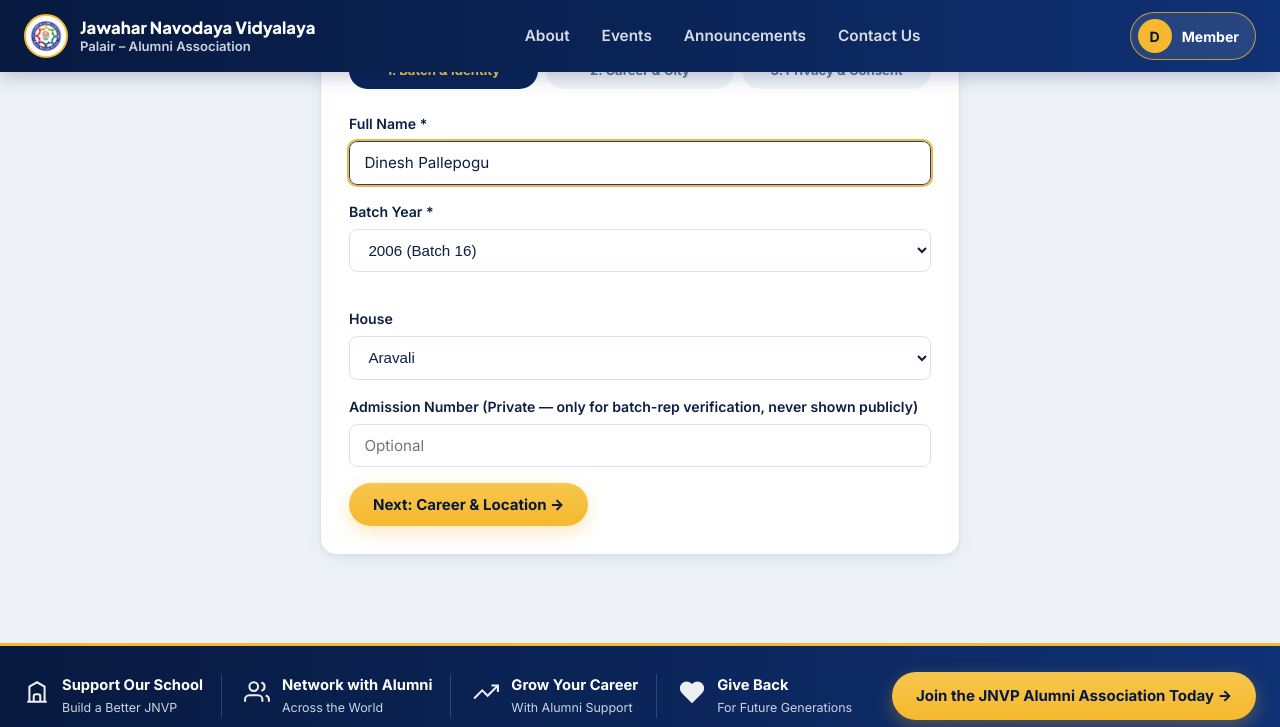
it: JNVP Portal Flows (Auth, Onboarding, Directory, Approvals, Events, About, Privacy) › enforces multi-step onboarding with default-OFF visibility and mandatory DPDP consent
The image size is (1280, 727).
Earlier steps of the test are not shown.
(page scrolled)
Click the button "Next: Career & Location →": point(469, 505) [349,483,588,526]
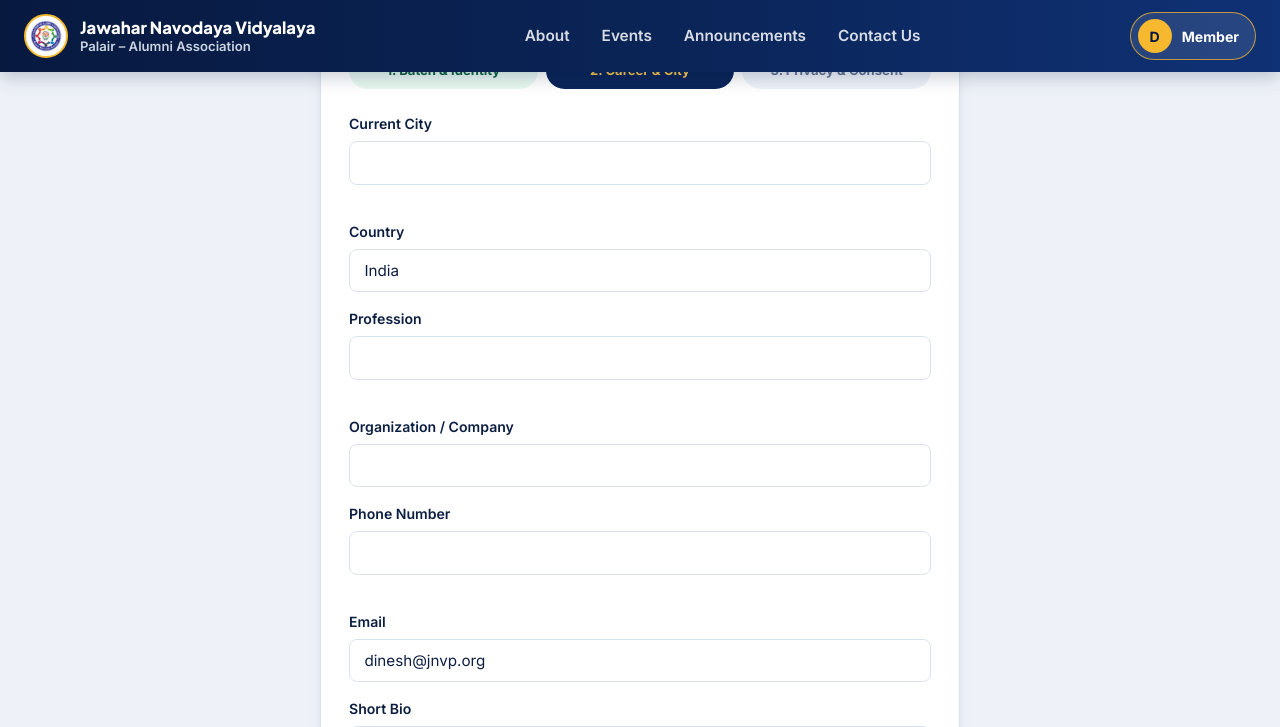
In the field labelled "Current City": point(640, 163) [349,141,931,185], type "Hyderabad"
(page scrolled)
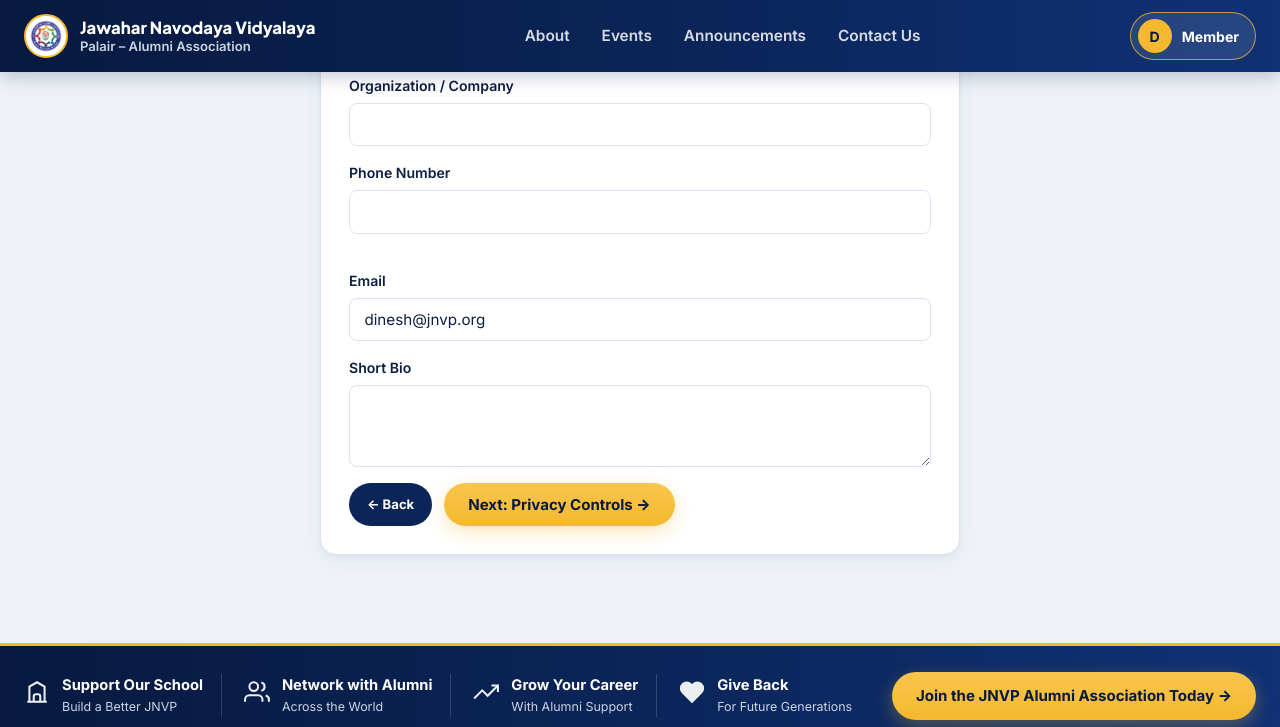
Click the button "Next: Privacy Controls →": point(559, 504) [444,482,675,526]
(page scrolled)
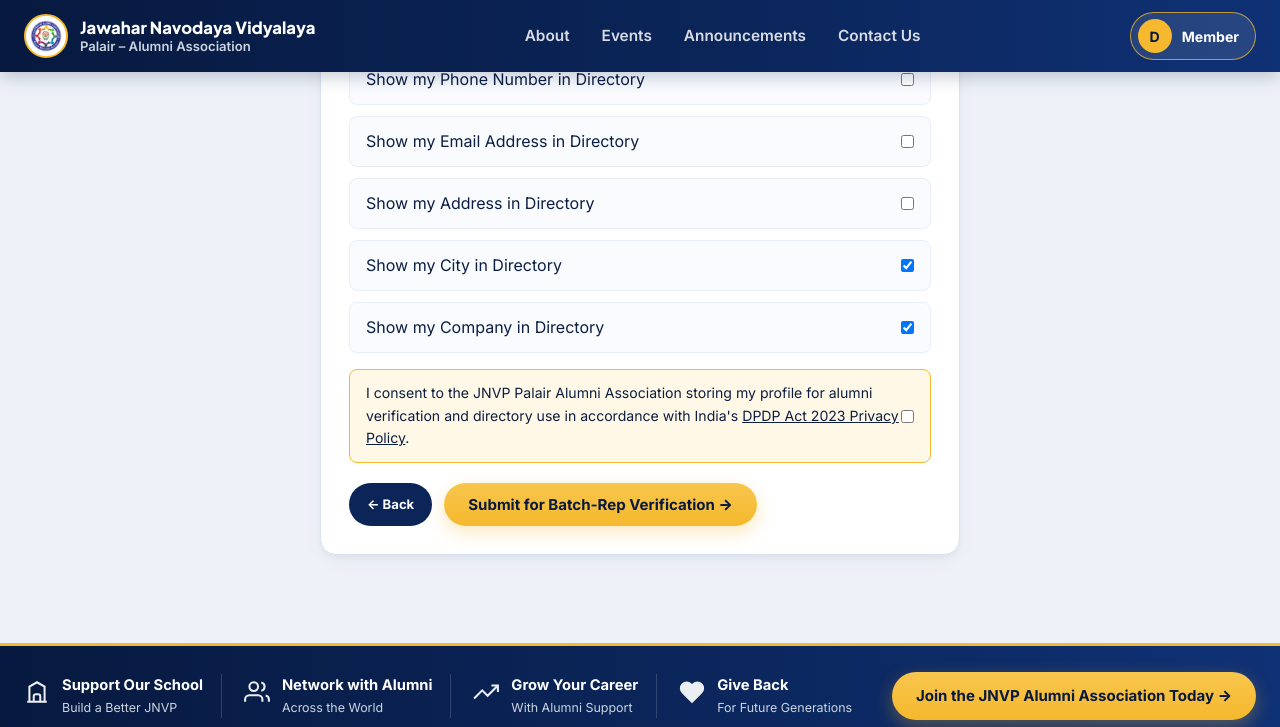
Check: the checkbox labelled "Show my Phone Number in Directory" is not checked, box [901,73,914,86]
Check: the checkbox labelled "Show my Email Address in Directory" is not checked, box [901,135,914,148]
# Submitting without consent shows validation error
Click the button "Submit for Batch-Rep Verification →": point(600, 504) [444,483,757,526]
(page scrolled)
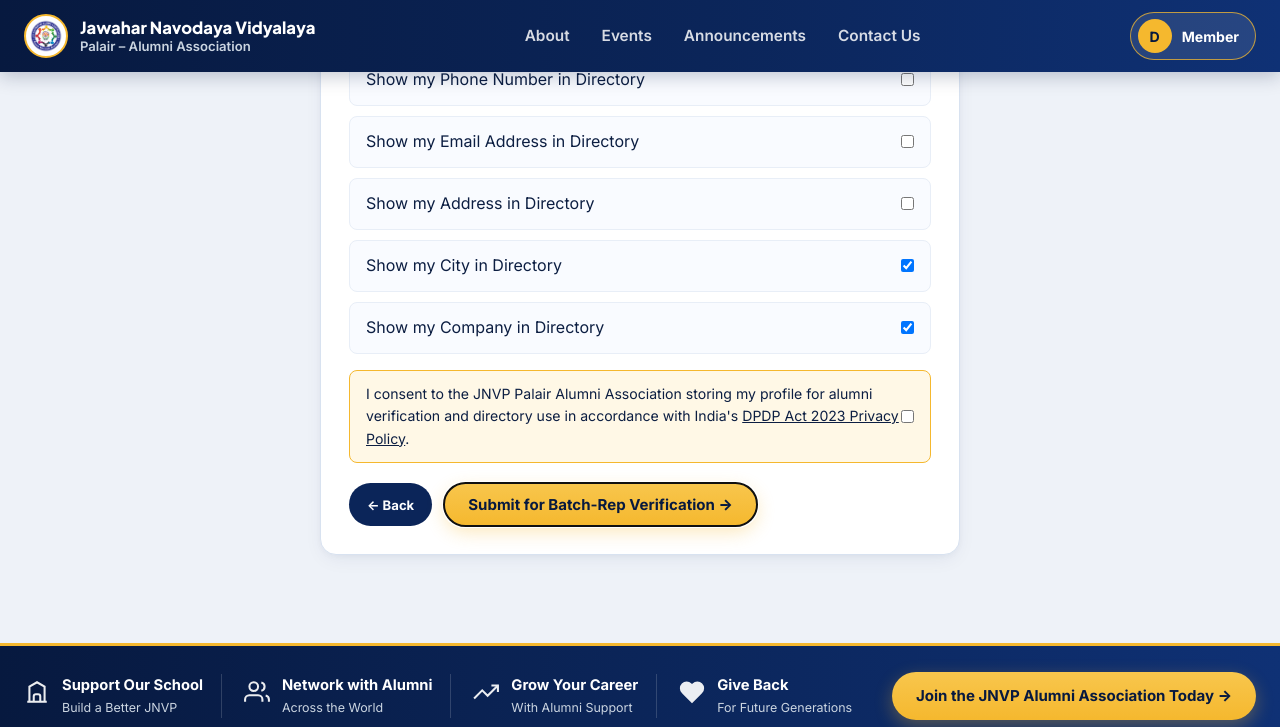
Click the checkbox named "Accept DPDP Privacy Consent": point(908, 416) [901,410,914,423]
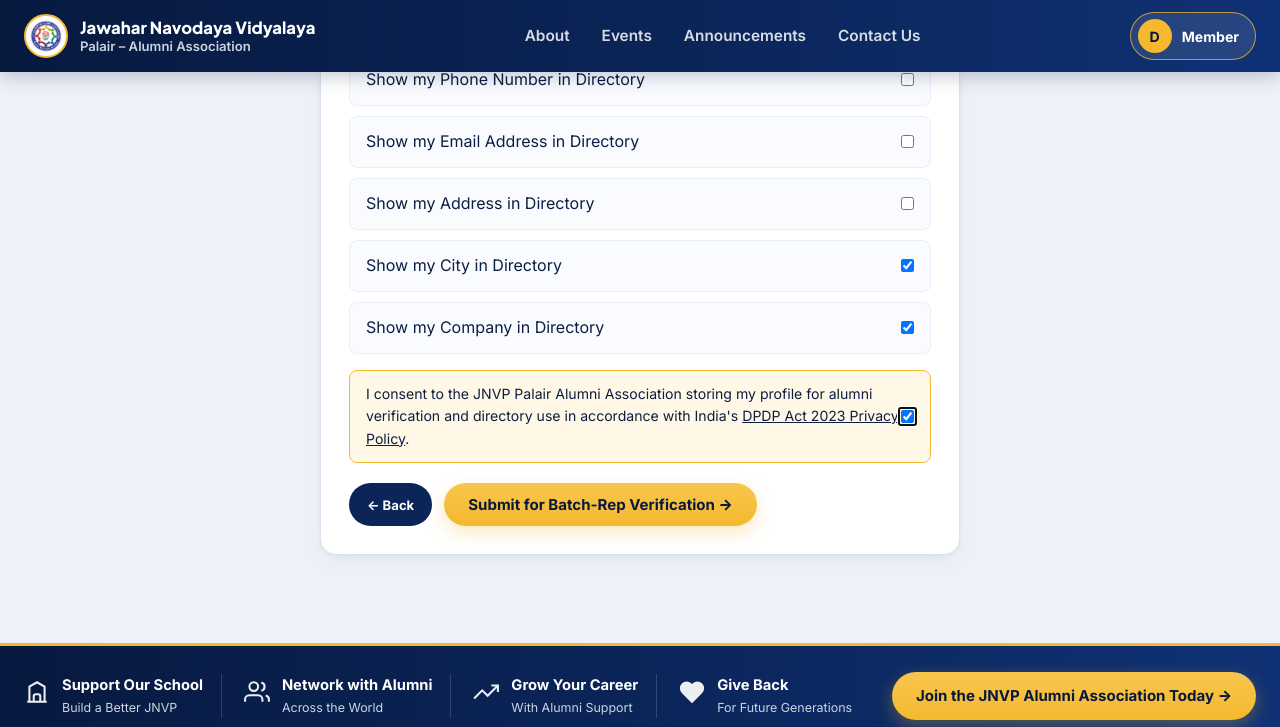
Click the button "Submit for Batch-Rep Verification →": point(600, 505) [444,483,757,526]
(page scrolled)
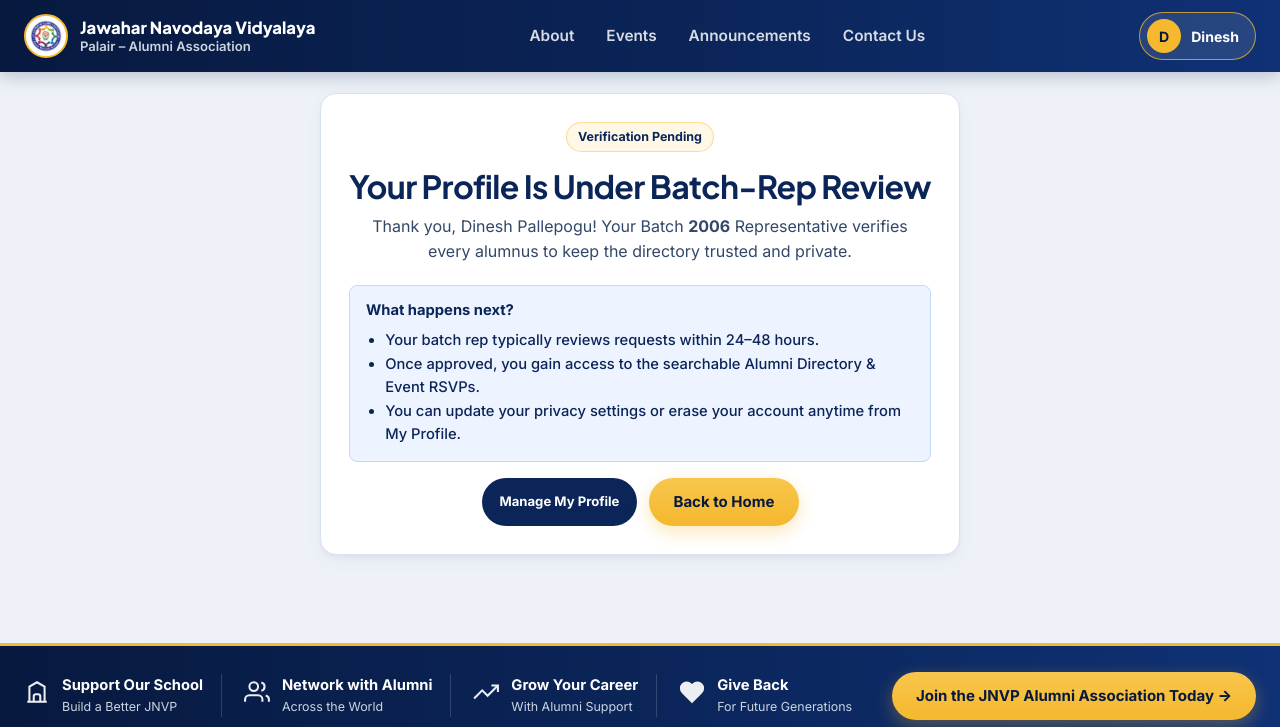
Check: the heading "Your Profile Is Under Batch-Rep Review" is shown, box [349,166,931,206]
